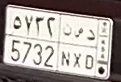2: (44, 16, 56, 67)
3: (33, 16, 45, 65)
5: (11, 16, 22, 62)
7: (21, 15, 34, 64)
D: (85, 29, 96, 71)
N: (61, 23, 72, 66)
X: (72, 27, 84, 69)
